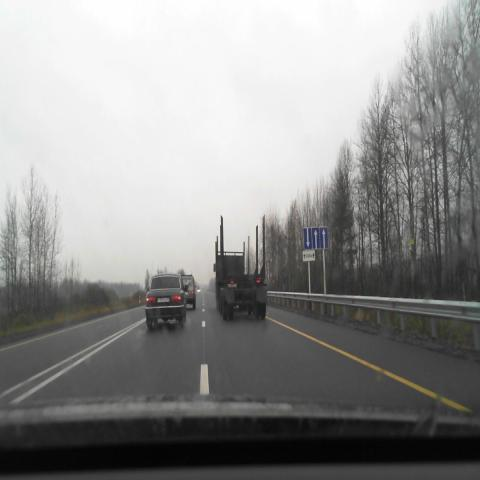5_15_7: (303, 227, 329, 249)
